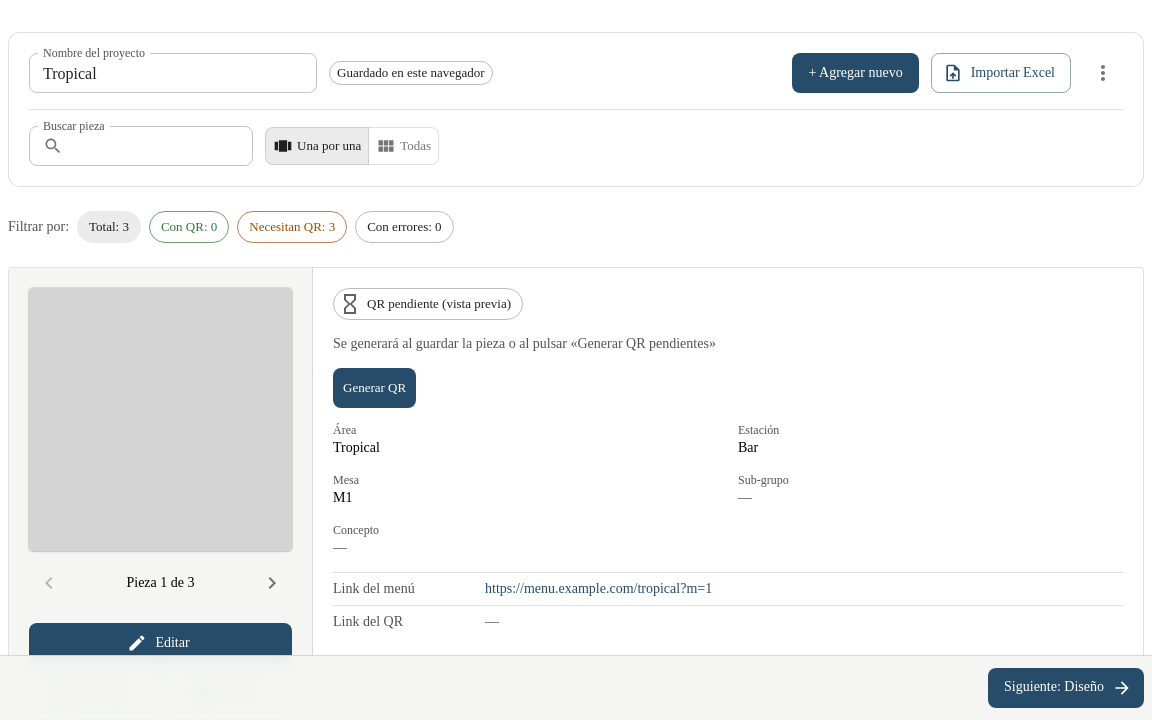
Test: filtros, búsqueda, vistas y paginación › buscar por mesa
The image size is (1152, 720).
Type "M2" into the search field labelled "Buscar pieza" at x=162, y=146, box [71,126,253,166]
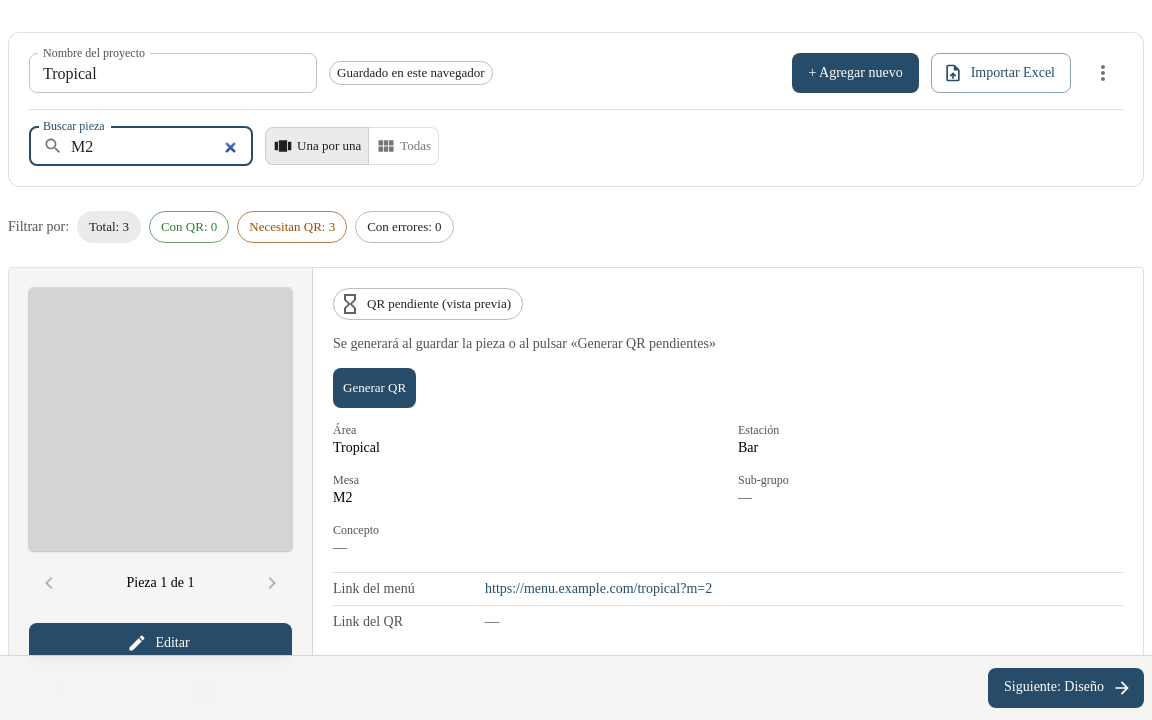
Now the text with test id "piece-position" reads "Pieza 1 de 1", box [126,573,194,593]
